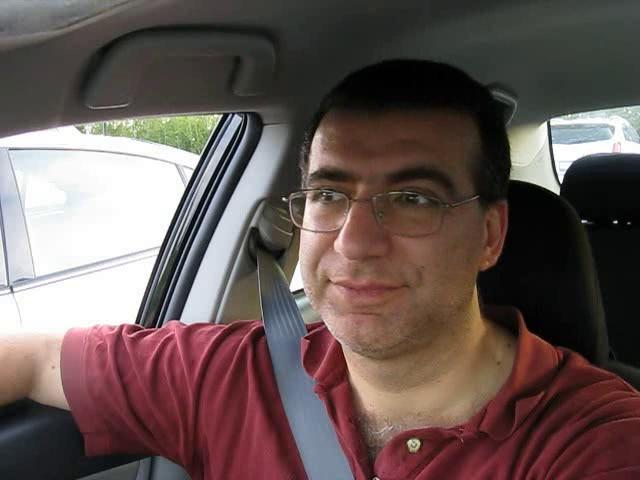no_yawn: (310, 262, 419, 316)
open_eyeL: (301, 180, 361, 219)
open_eyeR: (380, 183, 454, 223)
